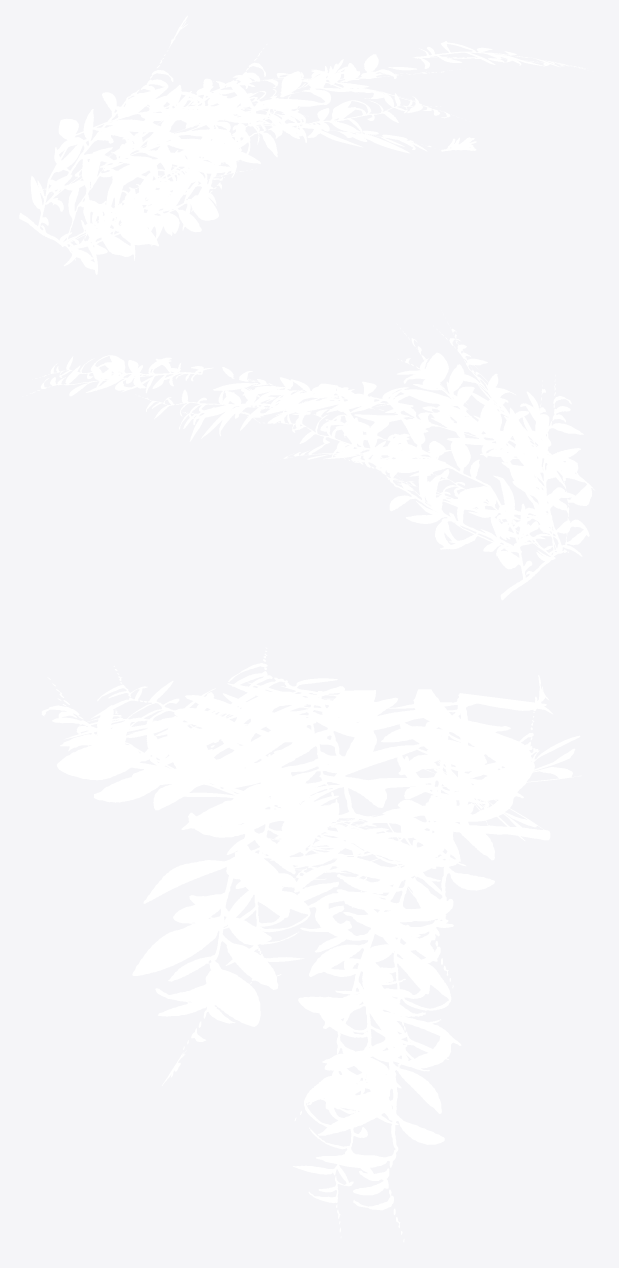
The picture shows the model from 3 angles, top to bottom: view 1: azimuth 30°, elevation 25°; view 2: azimuth 150°, elevation 25°; view 3: azimuth 270°, elevation 25°; orthographic projection. The views are drawn at different scales.
Parts seen in each view (by area): view 1: SM_GF_Climbing_A_04_LOD0; view 2: SM_GF_Climbing_A_04_LOD0; view 3: SM_GF_Climbing_A_04_LOD0.
Boxes of the visible parts, x1=… form: SM_GF_Climbing_A_04_LOD0: x1=19, y1=15, x2=585, y2=274; SM_GF_Climbing_A_04_LOD0: x1=22, y1=314, x2=594, y2=600; SM_GF_Climbing_A_04_LOD0: x1=41, y1=647, x2=581, y2=1242.
Bounding box in the file's own units: 2.21 × 0.7546 × 1.
Materials: 1 (1 with a texture image).
